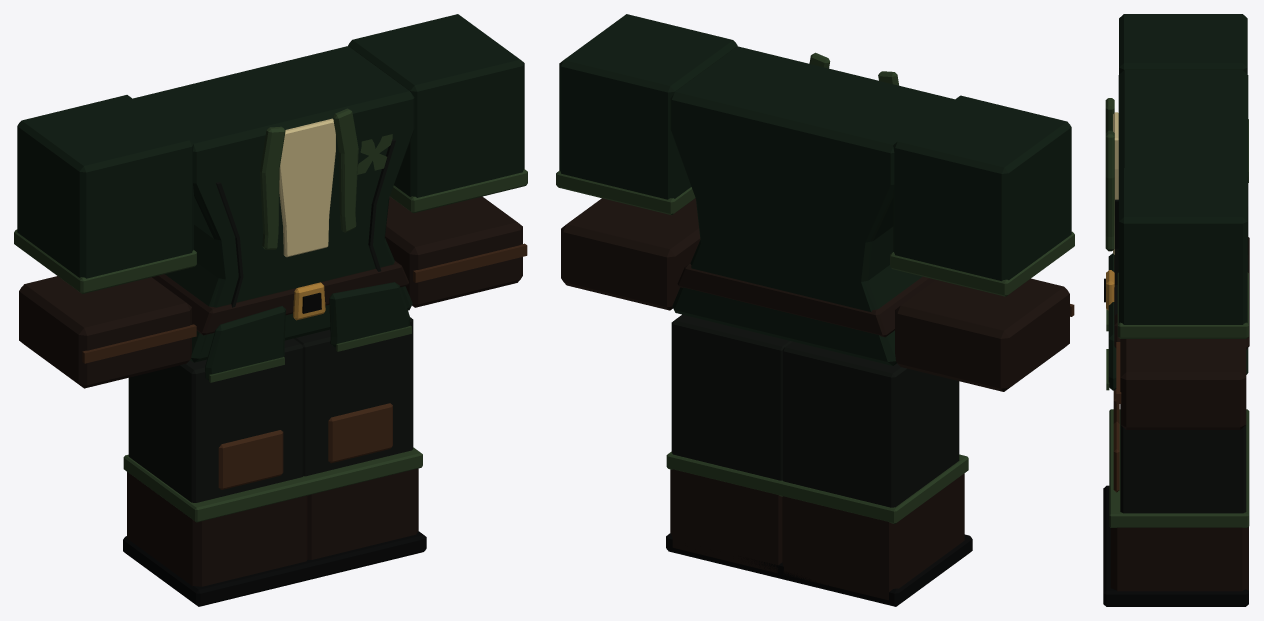
The model's file is outfit-forest-initiate-female-v1.gltf.
3 renders of one model, left to right at view 1: azimuth 30°, elevation 25°; view 2: azimuth 150°, elevation 25°; view 3: azimuth 270°, elevation 25°, orthographic. The views are drawn at different scales.
Parts seen in each view (by area): view 1: Torso.003, Left Arm.003, Left Leg.003, Right Arm.003, Right Leg.003; view 2: Torso.003, Left Arm.003, Left Leg.003, Right Arm.003, Right Leg.003; view 3: Right Arm.003, Right Leg.003, Torso.003, Left Arm.003, Left Leg.003.
Boxes of the visible parts, x1,y1,x2,y2 form: Torso.003: (133, 46, 414, 382); Left Arm.003: (14, 95, 196, 388); Left Leg.003: (123, 338, 315, 606); Right Arm.003: (348, 14, 527, 307); Right Leg.003: (293, 317, 426, 579); Torso.003: (670, 46, 954, 365); Left Arm.003: (890, 95, 1074, 391); Left Leg.003: (777, 341, 972, 606); Right Arm.003: (556, 14, 737, 310); Right Leg.003: (666, 314, 792, 579); Right Arm.003: (1116, 168, 1248, 429); Right Leg.003: (1103, 421, 1249, 606); Torso.003: (1104, 70, 1249, 390); Left Arm.003: (1119, 14, 1248, 182); Left Leg.003: (1103, 389, 1249, 538).
Size of the model in its own units: 4.09 by 4.01 by 1.21.
Materials: 1 (1 with a texture image).
